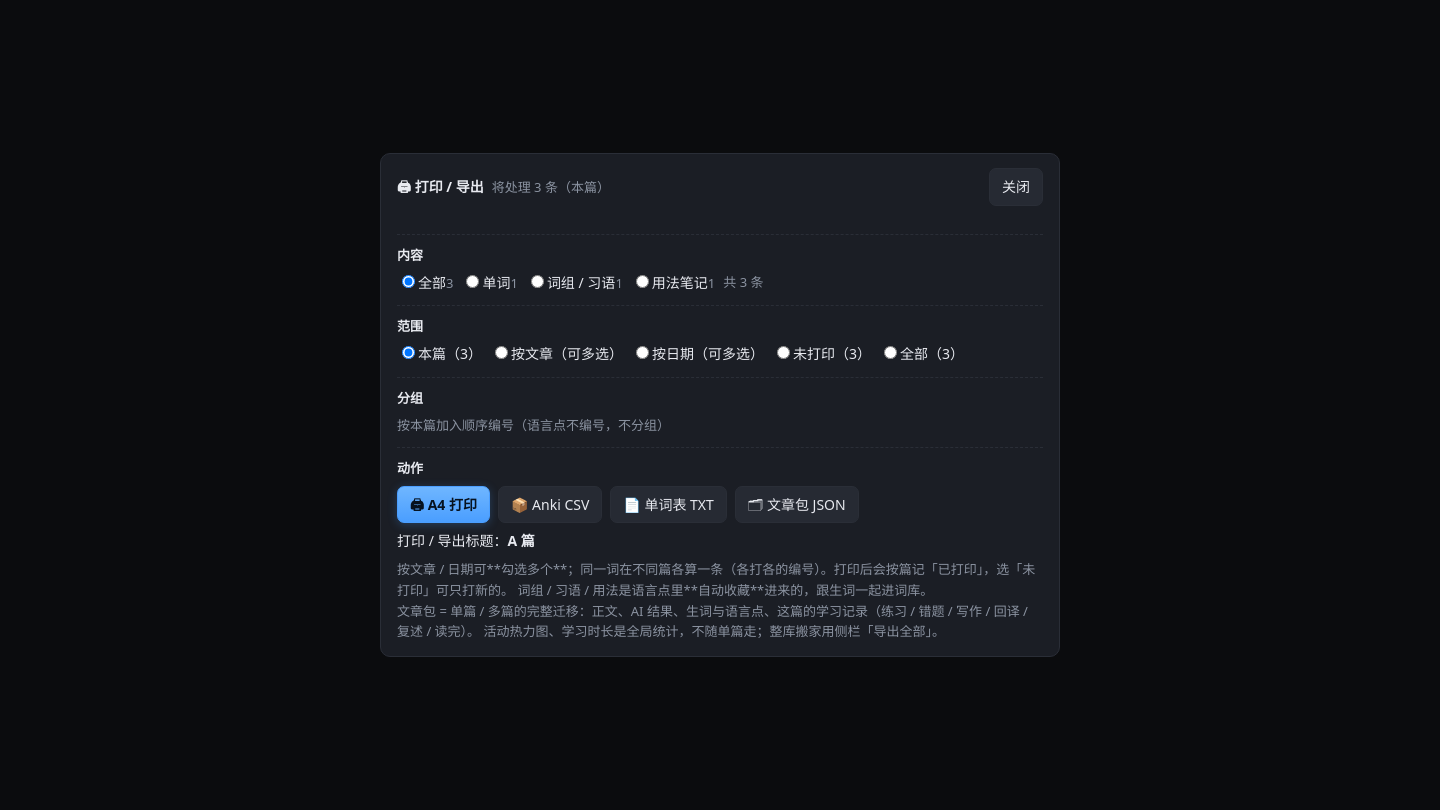
Test: ExportPanel：文章包 › 按日期 / 全部：文章包禁用（只能按篇导）
The image size is (1440, 810).
Click the radio button labelled "全部（3）": point(890, 353) [884,346,897,360]
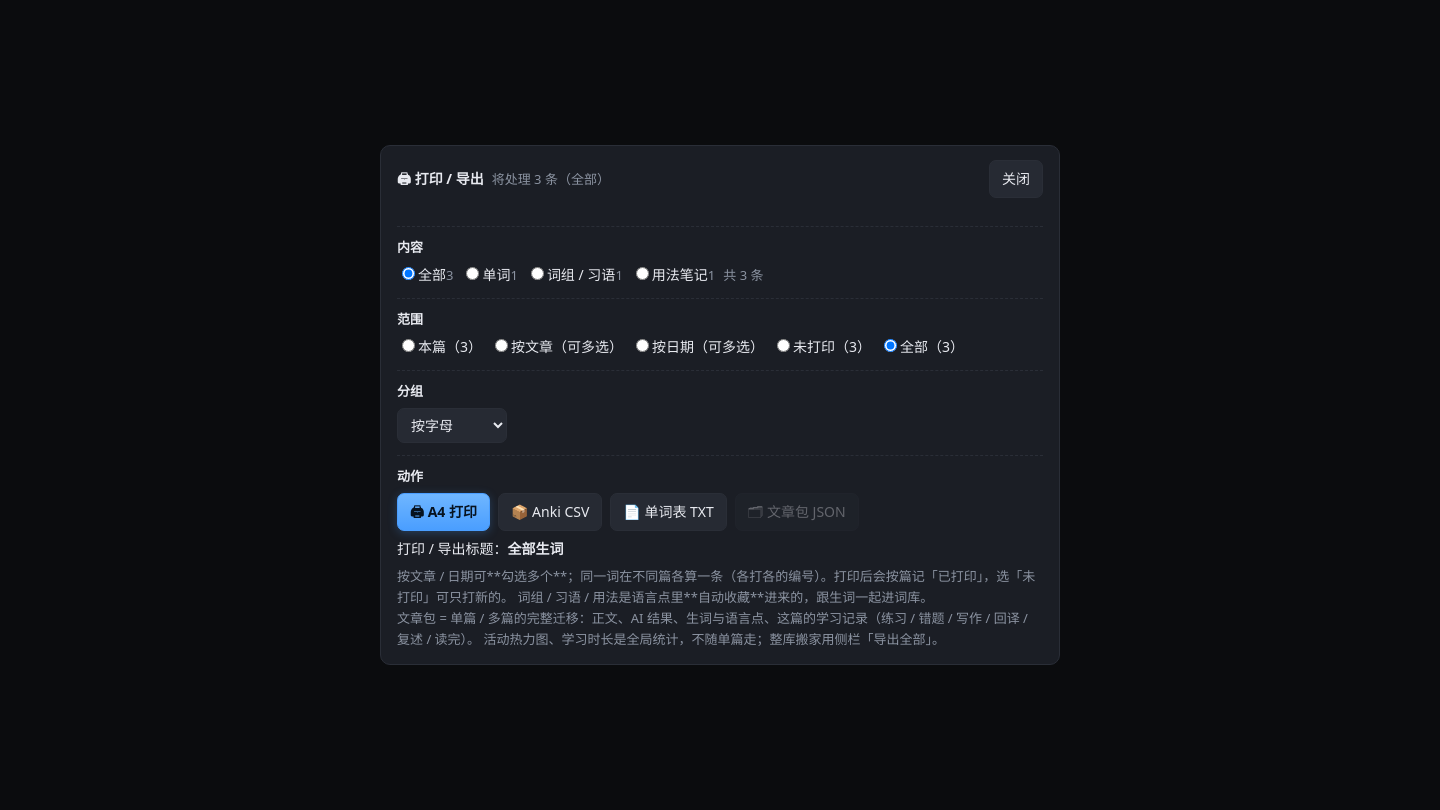
Now the button "🗂 文章包 JSON" is disabled, box [735,493,859,531]
